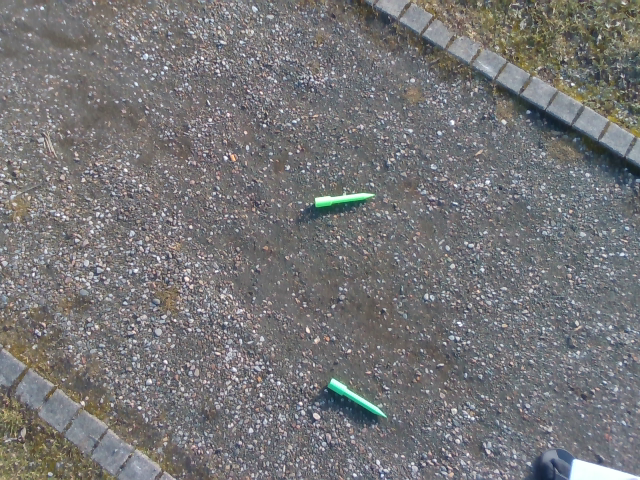Probe: (324, 373, 392, 423), (310, 190, 381, 211)
